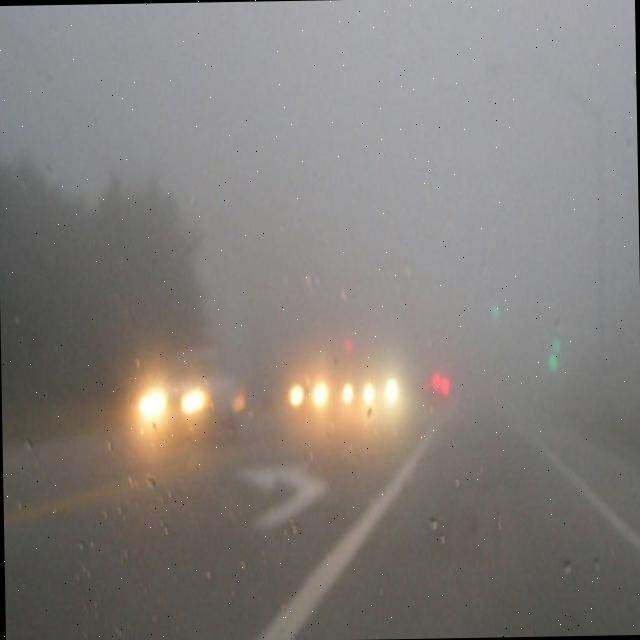car: (132, 340, 238, 450), (286, 349, 332, 419), (360, 358, 402, 424), (336, 360, 364, 414)
